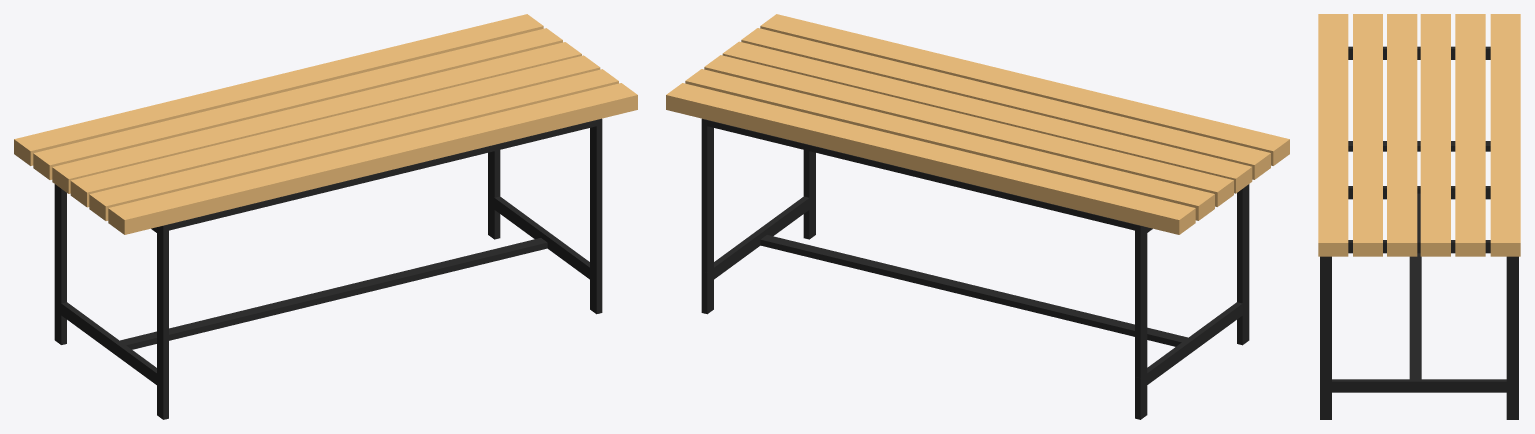
The model's file is Wooden Bench V1.fbx.
3 views of the same model, side by side, from view 1: azimuth 30°, elevation 25°; view 2: azimuth 150°, elevation 25°; view 3: azimuth 270°, elevation 25° (orthographic). The views are drawn at different scales.
Visible parts, largest first — view 1: Cube.005, Cube, Cube.006, Cube.004, Cube.001, Cube.002, Cube.003; view 2: Cube.005, Cube.006, Cube.004, Cube.003, Cube, Cube.001, Cube.002; view 3: Cube.005, Cube.006, Cube.004, Cube.003, Cube.002, Cube, Cube.001.
Boxes of the visible parts, x1,y1,x2,y2 form: Cube.005: [54, 118, 602, 419]; Cube: [108, 83, 637, 234]; Cube.006: [14, 14, 543, 165]; Cube.004: [33, 28, 562, 179]; Cube.001: [89, 69, 618, 220]; Cube.002: [70, 55, 600, 207]; Cube.003: [52, 42, 581, 193]; Cube.005: [701, 118, 1249, 419]; Cube.006: [666, 83, 1195, 234]; Cube.004: [685, 69, 1214, 220]; Cube.003: [704, 55, 1233, 206]; Cube: [760, 14, 1289, 165]; Cube.001: [741, 28, 1270, 179]; Cube.002: [722, 41, 1252, 193]; Cube.005: [1320, 46, 1518, 419]; Cube.006: [1490, 14, 1520, 256]; Cube.004: [1455, 14, 1485, 256]; Cube.003: [1420, 14, 1450, 256]; Cube.002: [1387, 14, 1417, 256]; Cube: [1318, 14, 1348, 256]; Cube.001: [1353, 14, 1382, 256].
Size of the model in its own units: 180 by 70.45 by 67.17.
